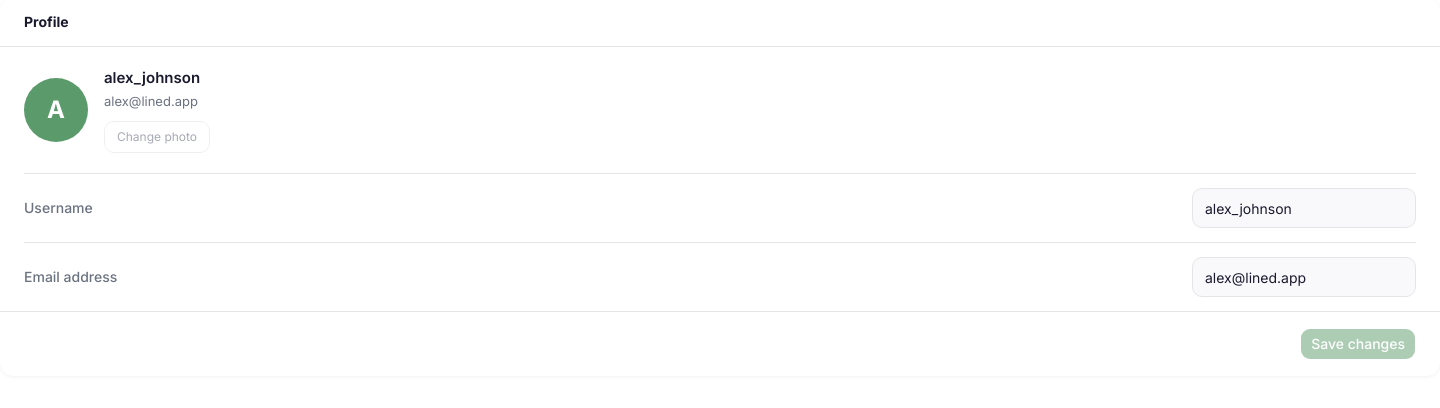
ProfileCard › shows an inline conflict error on 409
Step 1. Type "x" into the field named "Username" → (1304, 208), box [1192,188,1416,228]
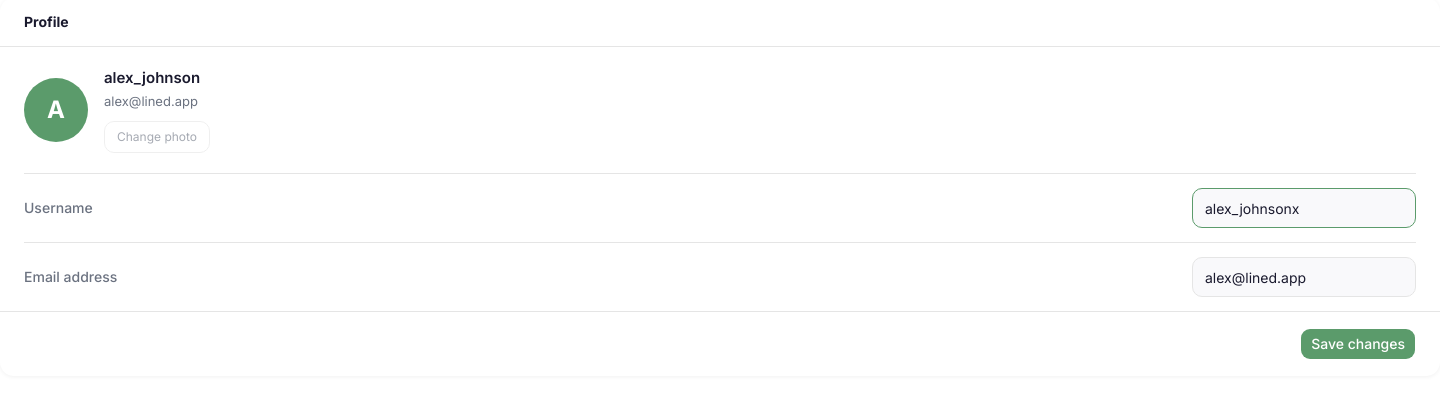
Step 2. Click the button "Save changes" → (1358, 344), box [1300,328,1416,360]
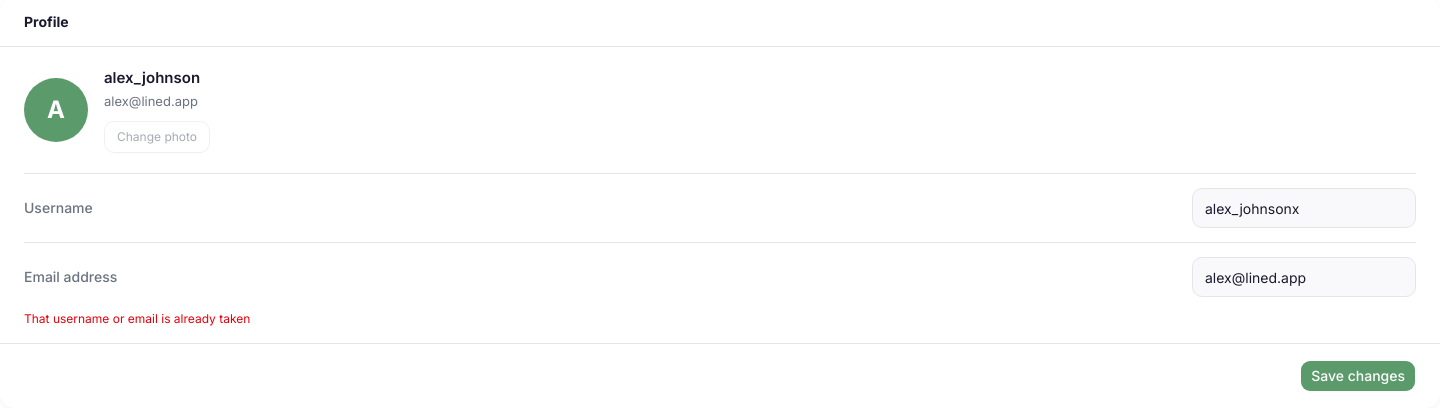
Now the message reads "That username or email is already taken", box [24,311,250,326]
